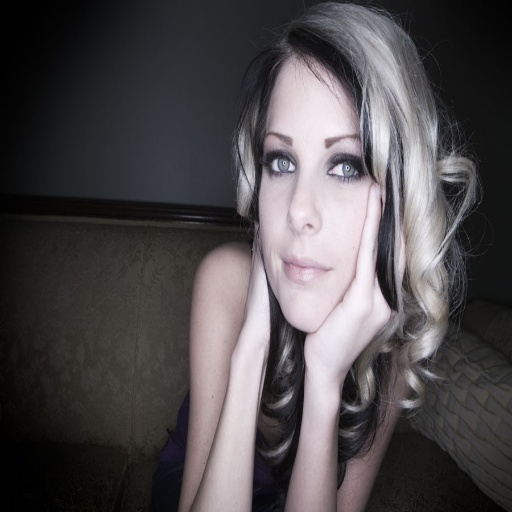hand: (300, 180, 390, 379), (235, 221, 271, 366)
